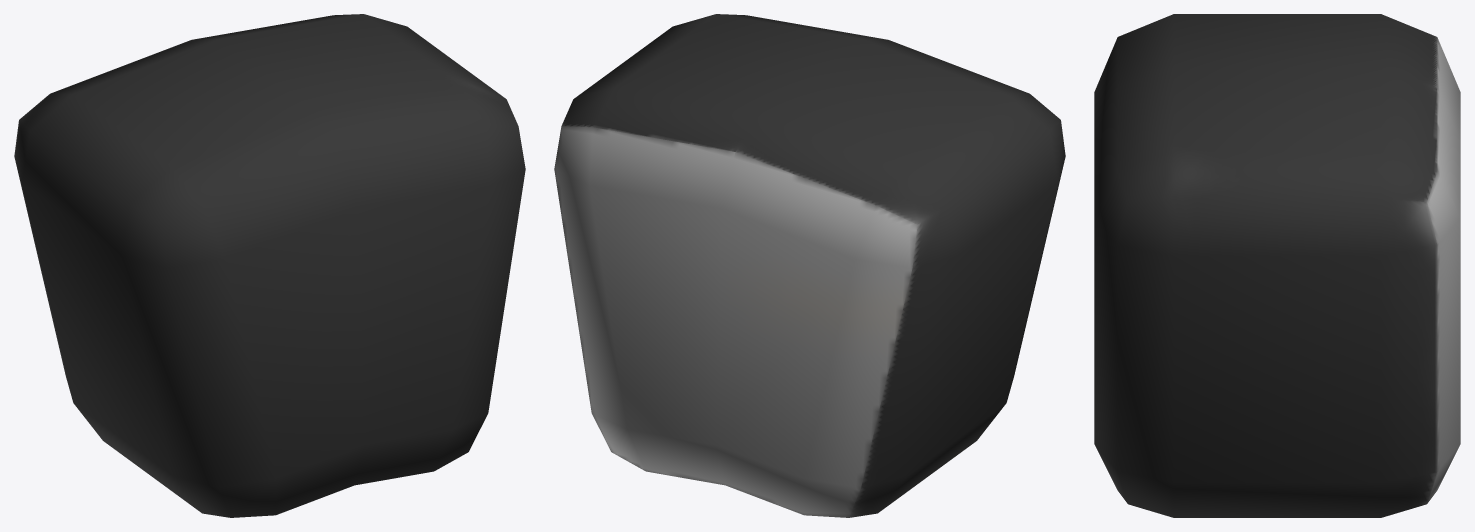
The model's file is block2.fbx.
3 views of the same model, side by side, from view 1: azimuth 30°, elevation 25°; view 2: azimuth 150°, elevation 25°; view 3: azimuth 270°, elevation 25° (orthographic). The views are drawn at different scales.
Parts seen in each view (by area): view 1: castle gate.002; view 2: castle gate.002; view 3: castle gate.002.
Boxes of the visible parts, bbox=[...] form: castle gate.002: bbox=[14, 14, 525, 517]; castle gate.002: bbox=[554, 14, 1065, 517]; castle gate.002: bbox=[1094, 14, 1460, 517].
Bounding box in the file's own units: 74.9 × 69.72 × 57.36.
